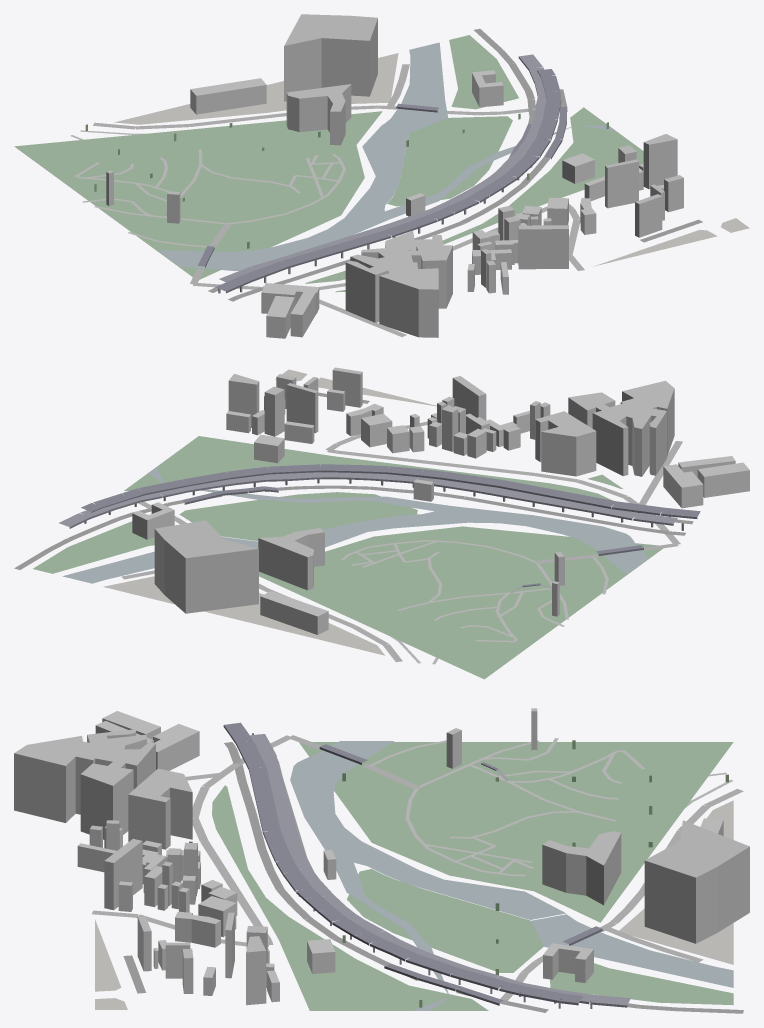
3 views of the same model, one above another, from view 1: azimuth 30°, elevation 25°; view 2: azimuth 150°, elevation 25°; view 3: azimuth 270°, elevation 25° (orthographic). The views are drawn at different scales.
Size of the model in its own units: 519 by 57.9 by 576.
